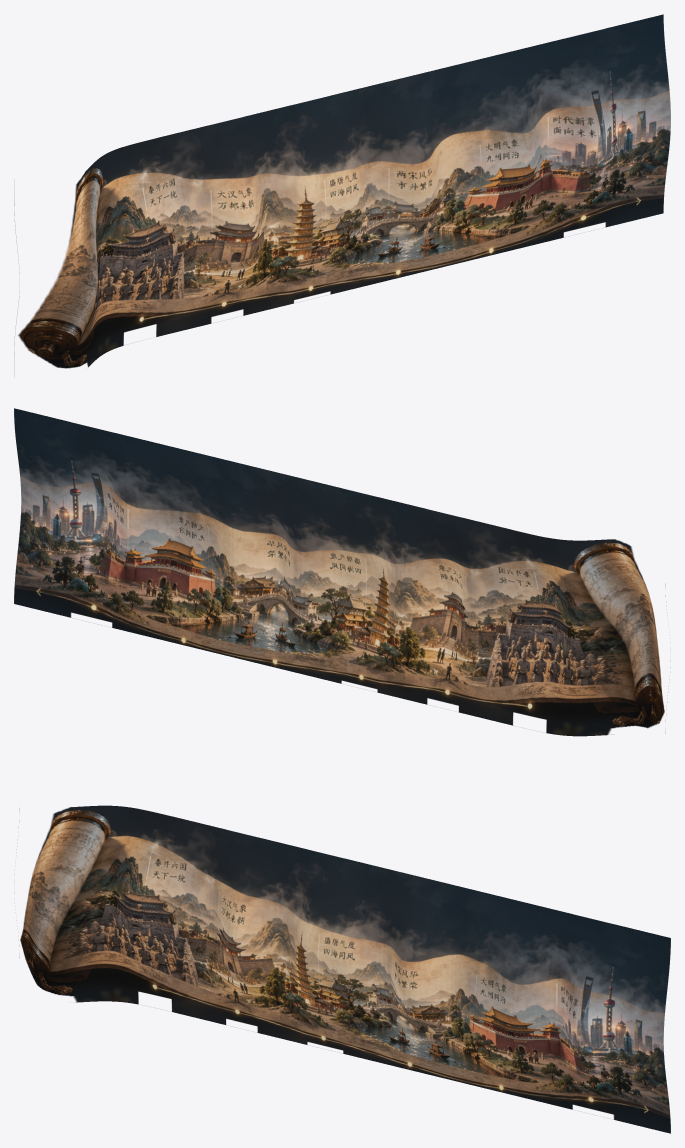
File: history-scroll.glb
3 renders of one model, top to bottom at view 1: azimuth 30°, elevation 25°; view 2: azimuth 150°, elevation 25°; view 3: azimuth 330°, elevation 25°, orthographic.
Visible parts, largest first — view 1: Unfurled scroll · projected landscape relief; view 2: Unfurled scroll · projected landscape relief; view 3: Unfurled scroll · projected landscape relief.
Boxes of the visible parts, x1,y1,x2,y2 form: Unfurled scroll · projected landscape relief: [14, 14, 670, 368]; Unfurled scroll · projected landscape relief: [14, 408, 665, 736]; Unfurled scroll · projected landscape relief: [19, 805, 670, 1133].
Size of the model in its own units: 12 by 3.48 by 1.09.
Materials: 1 (1 with a texture image).
